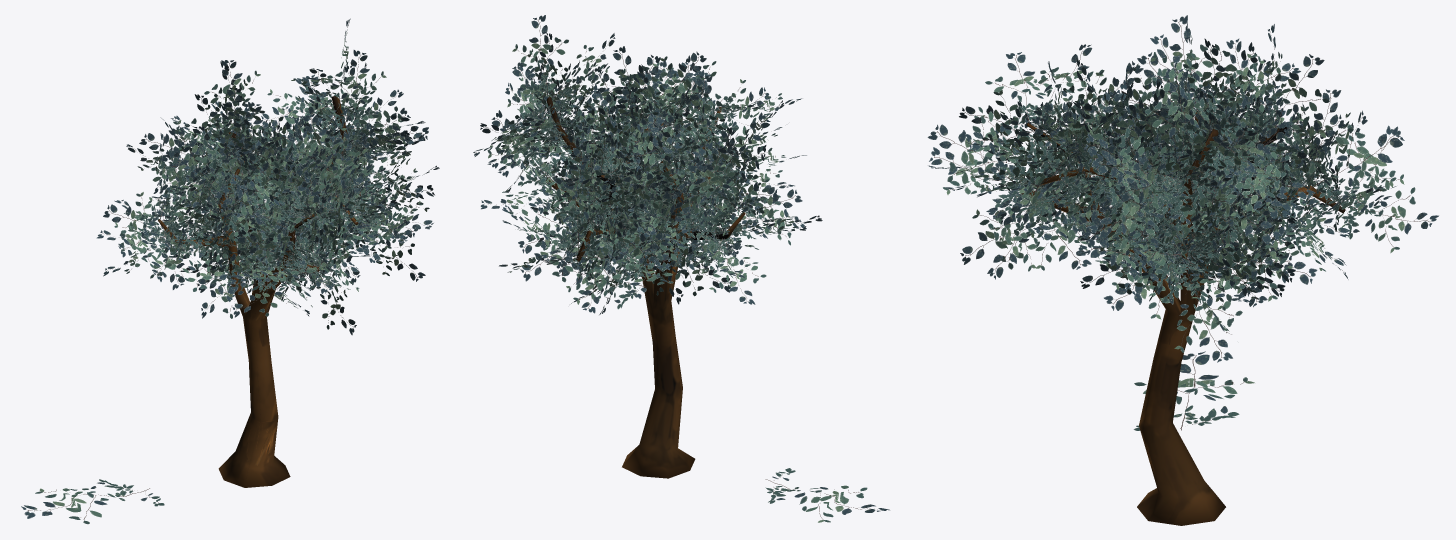
File: TreeTry.fbx
3 renders of one model, left to right at view 1: azimuth 30°, elevation 25°; view 2: azimuth 150°, elevation 25°; view 3: azimuth 270°, elevation 25°, orthographic. The views are drawn at different scales.
Parts seen in each view (by area): view 1: Cube, Tree Branch, Tree Branch.215, Tree Branch.241, Tree Branch.028, Tree Branch.274, Tree Branch.242, Tree Branch.069, Tree Branch.275, Tree Branch.006, Tree Branch.220, Tree Branch.240 (+28 smaller); view 2: Cube, Tree Branch, Tree Branch.217, Tree Branch.168, Tree Branch.208, Tree Branch.238, Tree Branch.172, Tree Branch.241, Tree Branch.234, Tree Branch.271, Tree Branch.157, Tree Branch.158 (+40 smaller); view 3: Cube, Tree Branch, Tree Branch.163, Tree Branch.054, Tree Branch.209, Tree Branch.156, Tree Branch.283, Tree Branch.072, Tree Branch.253, Tree Branch.218, Tree Branch.217, Tree Branch.142 (+57 smaller).
Boxes of the visible parts, bbox=[...] form: Cube: bbox=[158, 96, 360, 487]; Tree Branch: bbox=[21, 479, 164, 524]; Tree Branch.215: bbox=[322, 50, 386, 129]; Tree Branch.241: bbox=[139, 141, 202, 222]; Tree Branch.028: bbox=[168, 126, 230, 213]; Tree Branch.274: bbox=[214, 175, 295, 252]; Tree Branch.242: bbox=[155, 235, 235, 301]; Tree Branch.069: bbox=[261, 86, 341, 140]; Tree Branch.275: bbox=[241, 153, 306, 235]; Tree Branch.006: bbox=[236, 229, 325, 282]; Tree Branch.220: bbox=[103, 192, 175, 263]; Tree Branch.240: bbox=[144, 223, 197, 289]; Cube: bbox=[546, 96, 745, 478]; Tree Branch: bbox=[765, 468, 890, 522]; Tree Branch.217: bbox=[512, 15, 570, 98]; Tree Branch.168: bbox=[545, 163, 607, 255]; Tree Branch.208: bbox=[601, 123, 681, 197]; Tree Branch.238: bbox=[683, 157, 760, 221]; Tree Branch.172: bbox=[581, 218, 669, 280]; Tree Branch.241: bbox=[703, 127, 764, 215]; Tree Branch.234: bbox=[716, 177, 802, 253]; Tree Branch.271: bbox=[670, 75, 730, 158]; Tree Branch.157: bbox=[550, 145, 611, 230]; Tree Branch.158: bbox=[520, 217, 611, 282]; Cube: bbox=[1021, 110, 1345, 525]; Tree Branch: bbox=[1133, 351, 1254, 430]; Tree Branch.163: bbox=[1292, 124, 1404, 207]; Tree Branch.054: bbox=[1161, 256, 1242, 362]; Tree Branch.209: bbox=[1247, 54, 1329, 153]; Tree Branch.156: bbox=[1340, 180, 1438, 253]; Tree Branch.283: bbox=[1087, 215, 1182, 290]; Tree Branch.072: bbox=[1203, 125, 1290, 219]; Tree Branch.253: bbox=[927, 115, 1025, 214]; Tree Branch.218: bbox=[1191, 146, 1282, 248]; Tree Branch.217: bbox=[1183, 38, 1244, 138]; Tree Branch.142: bbox=[987, 166, 1053, 279].
Bounding box in the file's own units: 5217 × 5244 × 4634.
